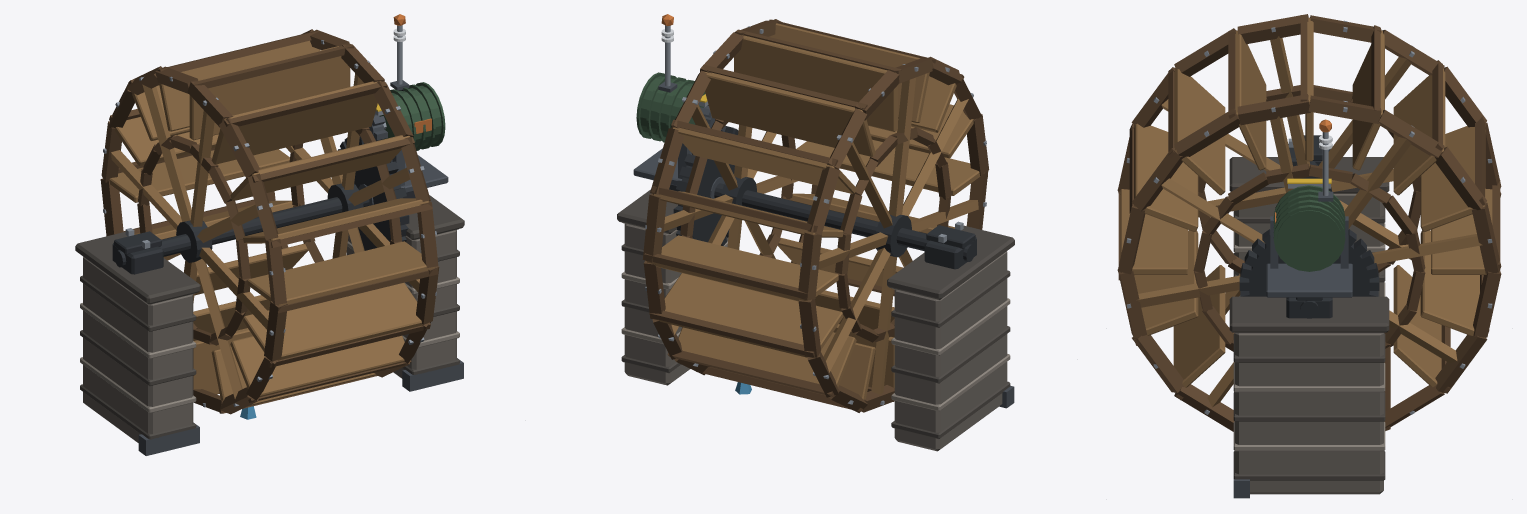
The model's file is roue_a_aubes.glb.
3 renders of one model, left to right at view 1: azimuth 30°, elevation 25°; view 2: azimuth 150°, elevation 25°; view 3: azimuth 270°, elevation 25°, orthographic. The views are drawn at different scales.
Visible parts, largest first — view 1: roue_bois.002, roue_bois_sombre.002, pieces_pierre.002, pieces_pierre_sombre.006, roue_fonte.002, pieces_acier_sombre.016, pieces_pierre_claire.002, pieces_fonte.012, generatrice.002, pieces_vert_fonce.006, roue_acier.002; view 2: roue_bois.002, roue_bois_sombre.002, pieces_pierre.002, pieces_pierre_sombre.006, roue_fonte.002, pieces_pierre_claire.002, pieces_fonte.012, generatrice.002, pieces_vert_fonce.006, pieces_acier_sombre.016, roue_acier.002; view 3: roue_bois.002, roue_bois_sombre.002, pieces_pierre.002, pieces_pierre_sombre.006, pieces_acier_sombre.016, roue_fonte.002, generatrice.002, pieces_pierre_claire.002, pieces_vert_fonce.006, pieces_fonte.012, roue_acier.002, pieces_acier.018.
Part boxes in pixels (bbox=[...]): roue_bois.002: bbox=[109, 40, 435, 406]; roue_bois_sombre.002: bbox=[100, 29, 439, 414]; pieces_pierre.002: bbox=[83, 230, 456, 442]; pieces_pierre_sombre.006: bbox=[75, 195, 464, 439]; roue_fonte.002: bbox=[114, 138, 409, 267]; pieces_acier_sombre.016: bbox=[138, 80, 463, 455]; pieces_pierre_claire.002: bbox=[80, 229, 459, 413]; pieces_fonte.012: bbox=[112, 191, 415, 274]; generatrice.002: bbox=[379, 85, 441, 147]; pieces_vert_fonce.006: bbox=[390, 82, 445, 150]; roue_acier.002: bbox=[103, 40, 436, 407]; roue_bois.002: bbox=[646, 23, 980, 399]; roue_bois_sombre.002: bbox=[642, 19, 989, 412]; pieces_pierre.002: bbox=[624, 223, 1007, 451]; pieces_pierre_sombre.006: bbox=[617, 189, 1014, 438]; roue_fonte.002: bbox=[673, 126, 975, 261]; pieces_pierre_claire.002: bbox=[621, 222, 1010, 411]; pieces_fonte.012: bbox=[669, 184, 976, 269]; generatrice.002: bbox=[640, 76, 705, 138]; pieces_vert_fonce.006: bbox=[636, 72, 694, 142]; pieces_acier_sombre.016: bbox=[633, 81, 1014, 408]; roue_acier.002: bbox=[645, 26, 986, 405]; roue_bois.002: bbox=[1120, 17, 1492, 407]; roue_bois_sombre.002: bbox=[1117, 14, 1501, 431]; pieces_pierre.002: bbox=[1235, 194, 1383, 494]; pieces_pierre_sombre.006: bbox=[1229, 157, 1389, 480]; pieces_acier_sombre.016: bbox=[1233, 191, 1352, 498]; roue_fonte.002: bbox=[1239, 161, 1379, 318]; generatrice.002: bbox=[1277, 189, 1341, 269]; pieces_pierre_claire.002: bbox=[1233, 193, 1385, 451]; pieces_vert_fonce.006: bbox=[1273, 185, 1345, 271]; pieces_fonte.012: bbox=[1286, 135, 1332, 318]; roue_acier.002: bbox=[1126, 20, 1492, 414]; pieces_acier.018: bbox=[1288, 132, 1330, 195].
Bounding box in the file's own units: 1.5 × 1.5 × 1.5.
